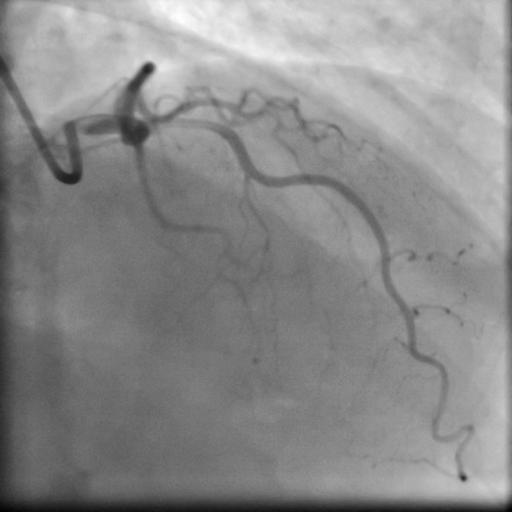Stenosis: (163, 115, 212, 133)
